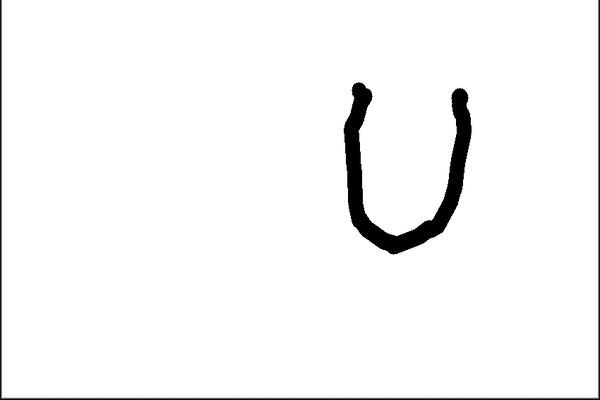U: (327, 67, 477, 260)
